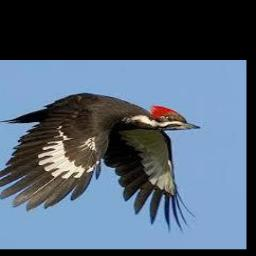Woodpecker: (0, 92, 200, 235)
